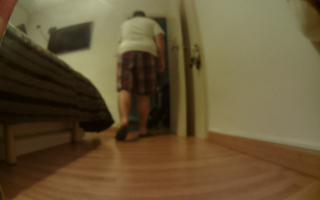person: (114, 8, 164, 143)
